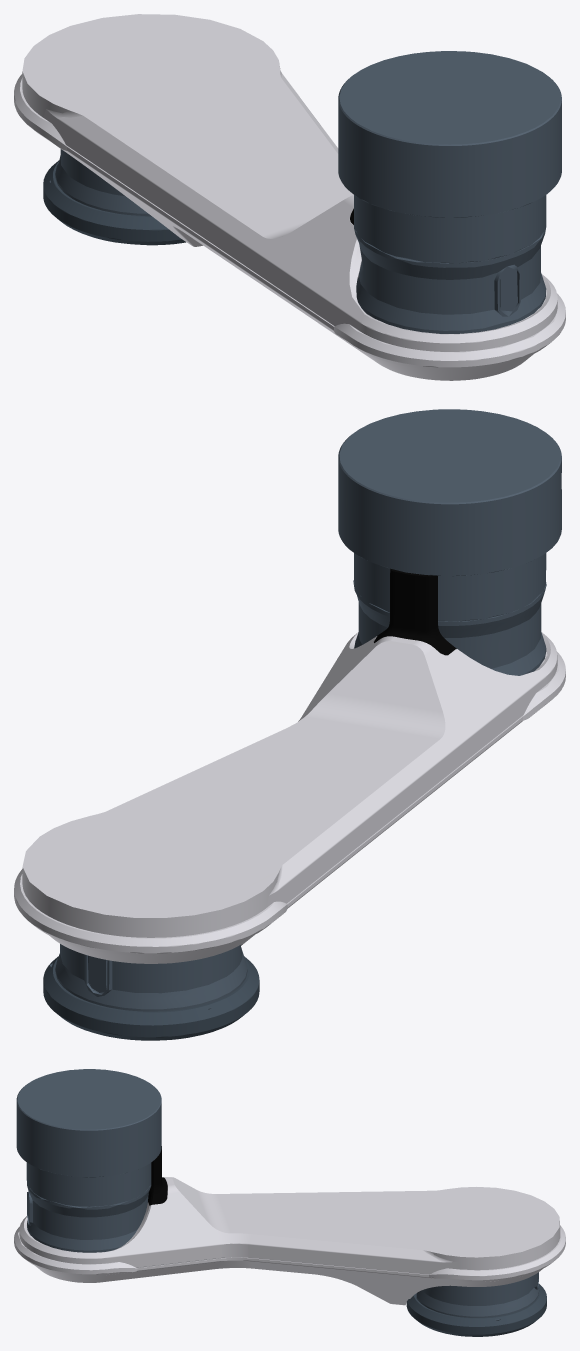
File: fr_hipy.obj
The picture shows the model from 3 angles, top to bottom: view 1: azimuth 30°, elevation 25°; view 2: azimuth 150°, elevation 25°; view 3: azimuth 270°, elevation 25°; orthographic projection. The views are drawn at different scales.
Parts seen in each view (by area): view 1: 移动面1, 倒角4, 切除-拉伸49, Mesh.017_mesh-a76b758d-04e6-4603-ae4f-035d6c816a01, 圆角25, 圆角2, 切除-拉伸49.001; view 2: 移动面1, 倒角4, Mesh.017_mesh-a76b758d-04e6-4603-ae4f-035d6c816a01, 切除-拉伸49.001, 圆角2, 切除-拉伸49, 圆角25, 凸台-拉伸1; view 3: 移动面1, 倒角4, Mesh.017_mesh-a76b758d-04e6-4603-ae4f-035d6c816a01, 切除-拉伸49, 圆角25, 切除-拉伸49.001, 圆角2, 凸台-拉伸1.
Boxes of the visible parts, x1,y1,x2,y2 form: 移动面1: [22, 14, 557, 351]; 倒角4: [338, 51, 561, 217]; 切除-拉伸49: [354, 223, 546, 333]; Mesh.017_mesh-a76b758d-04e6-4603-ae4f-035d6c816a01: [14, 74, 565, 380]; 圆角25: [354, 195, 546, 263]; 圆角2: [43, 160, 185, 245]; 切除-拉伸49.001: [55, 149, 151, 216]; 移动面1: [22, 632, 557, 937]; 倒角4: [338, 409, 561, 576]; Mesh.017_mesh-a76b758d-04e6-4603-ae4f-035d6c816a01: [14, 652, 565, 963]; 切除-拉伸49.001: [55, 944, 247, 1011]; 圆角2: [43, 956, 259, 1040]; 切除-拉伸49: [353, 580, 546, 675]; 圆角25: [354, 553, 546, 621]; 凸台-拉伸1: [373, 568, 456, 655]; 移动面1: [19, 1177, 560, 1274]; 倒角4: [16, 1069, 161, 1177]; Mesh.017_mesh-a76b758d-04e6-4603-ae4f-035d6c816a01: [14, 1225, 565, 1305]; 切除-拉伸49: [27, 1182, 151, 1252]; 圆角25: [26, 1162, 151, 1206]; 切除-拉伸49.001: [416, 1272, 539, 1317]; 圆角2: [406, 1284, 546, 1336]; 凸台-拉伸1: [148, 1146, 167, 1205].
Bounding box in the file's own units: 0.115 × 0.1494 × 0.356.
